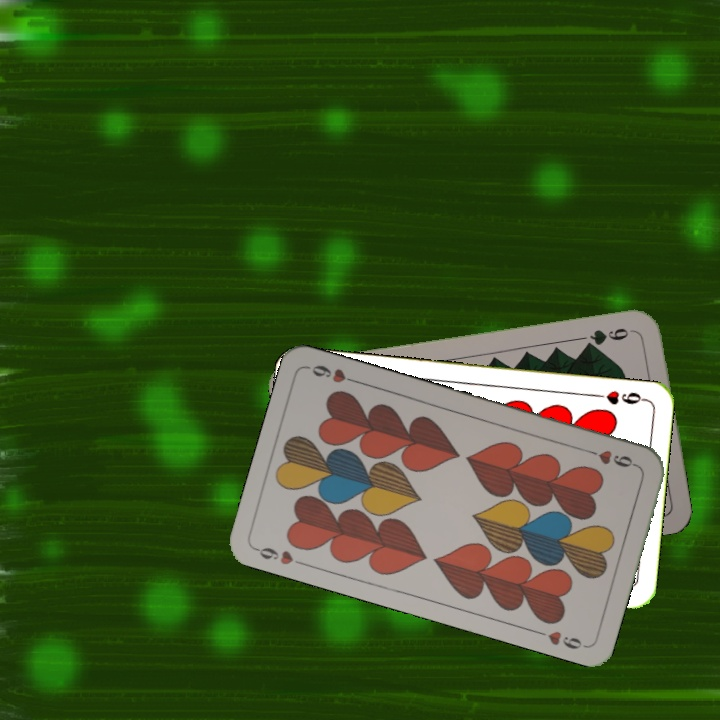G9: (580, 324, 638, 350)
H9: (251, 543, 309, 569), (583, 445, 641, 470), (589, 386, 648, 408)
